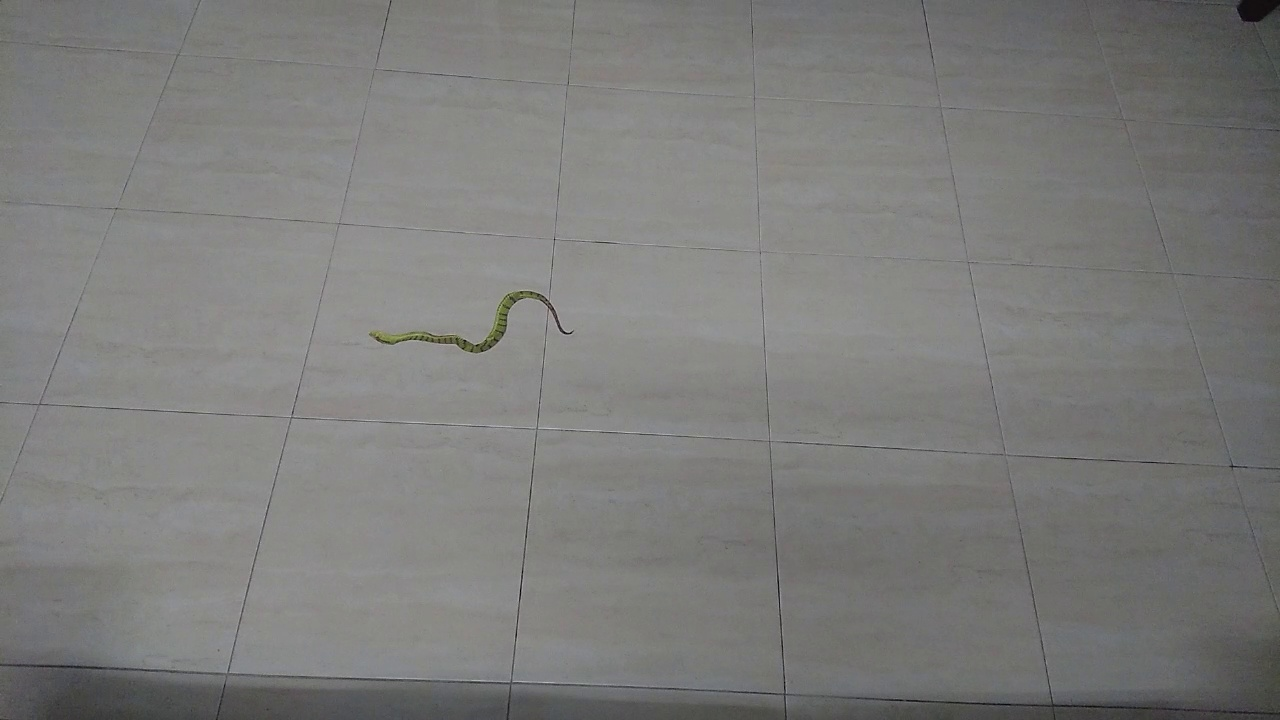snake: (350, 274, 591, 371)
